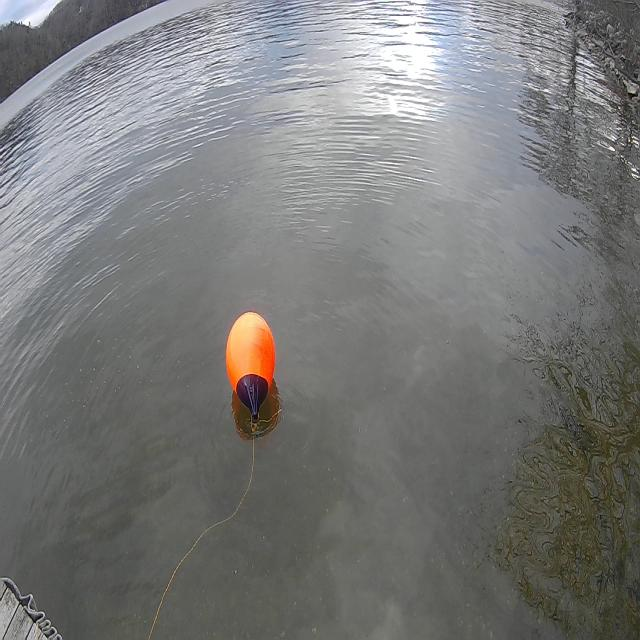Buoy: (214, 292, 293, 444)
